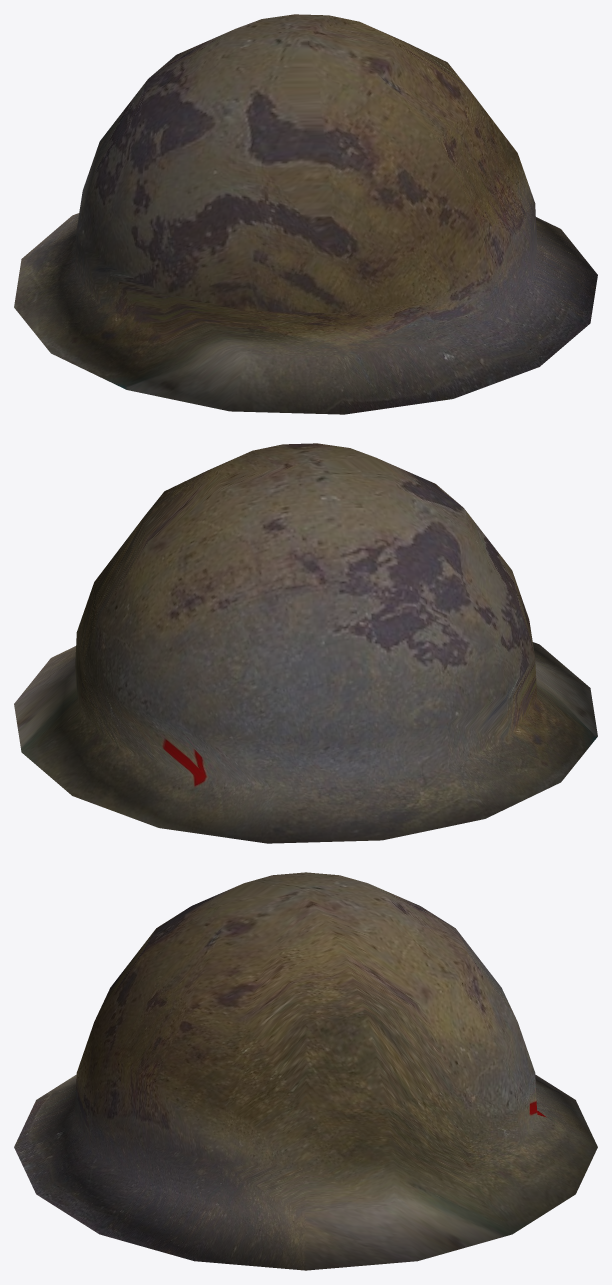
File: helmet.fbx
3 renders of one model, top to bottom at view 1: azimuth 30°, elevation 25°; view 2: azimuth 150°, elevation 25°; view 3: azimuth 270°, elevation 25°, orthographic.
Visible parts, largest first — view 1: Sphere; view 2: Sphere; view 3: Sphere.
Part boxes in pixels (<box>): Sphere: <box>14,14,597,414</box>; Sphere: <box>14,443,597,843</box>; Sphere: <box>14,872,597,1270</box>.
Bounding box in the file's own units: 6.91 × 3.31 × 6.91.
